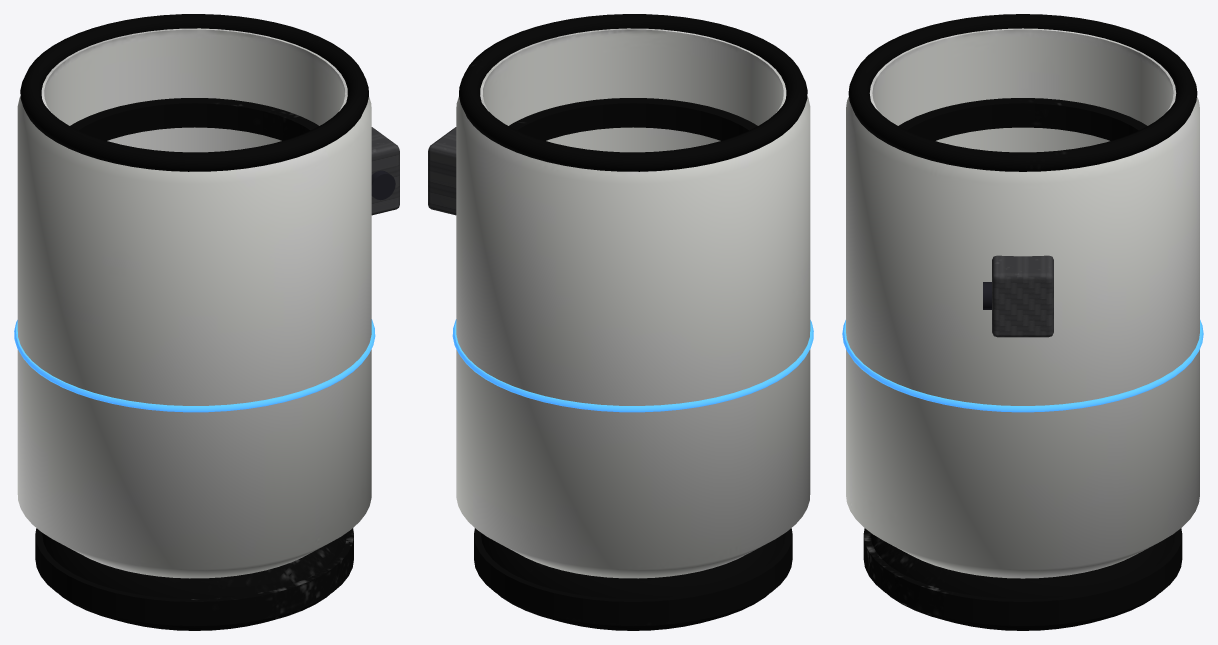
3 renders of one model, left to right at view 1: azimuth 30°, elevation 25°; view 2: azimuth 150°, elevation 25°; view 3: azimuth 270°, elevation 25°, orthographic.
Visible parts, largest first — view 1: TL08_Static_PaintWhite, TL08_Static_Titanium, TL08_Static_LED, TL08_Static_CarbonFiber, TL08_Static_LensOptic; view 2: TL08_Static_PaintWhite, TL08_Static_Titanium, TL08_Static_LED, TL08_Static_CarbonFiber; view 3: TL08_Static_PaintWhite, TL08_Static_Titanium, TL08_Static_CarbonFiber, TL08_Static_LED.
Part boxes in pixels (<box>): TL08_Static_PaintWhite: <box>17,28,371,578</box>; TL08_Static_Titanium: <box>20,14,368,630</box>; TL08_Static_LED: <box>14,319,375,412</box>; TL08_Static_CarbonFiber: <box>371,127,399,215</box>; TL08_Static_LensOptic: <box>371,170,395,200</box>; TL08_Static_PaintWhite: <box>456,28,810,578</box>; TL08_Static_Titanium: <box>459,14,807,630</box>; TL08_Static_LED: <box>452,319,813,412</box>; TL08_Static_CarbonFiber: <box>428,127,456,215</box>; TL08_Static_PaintWhite: <box>846,28,1199,578</box>; TL08_Static_Titanium: <box>848,14,1197,630</box>; TL08_Static_CarbonFiber: <box>992,255,1053,337</box>; TL08_Static_LED: <box>842,320,1203,412</box>.
Bounding box in the file's own units: 0.454 × 0.612 × 0.408.
6 materials, 4 textured.
